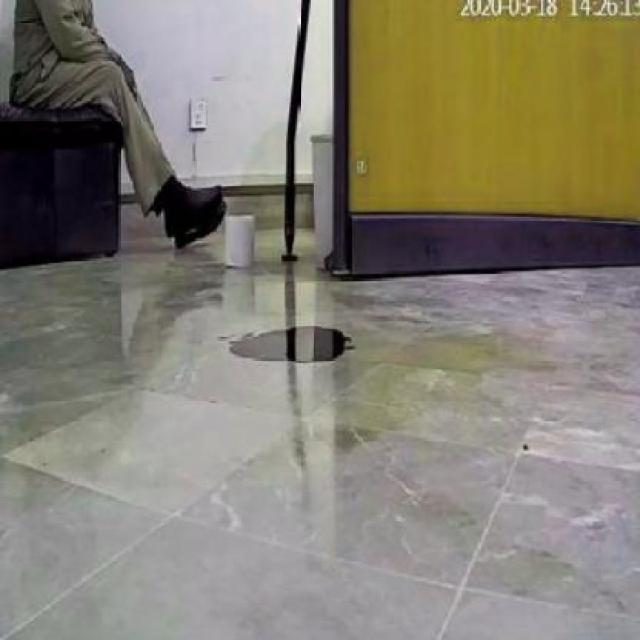spillage: (214, 323, 367, 364)
